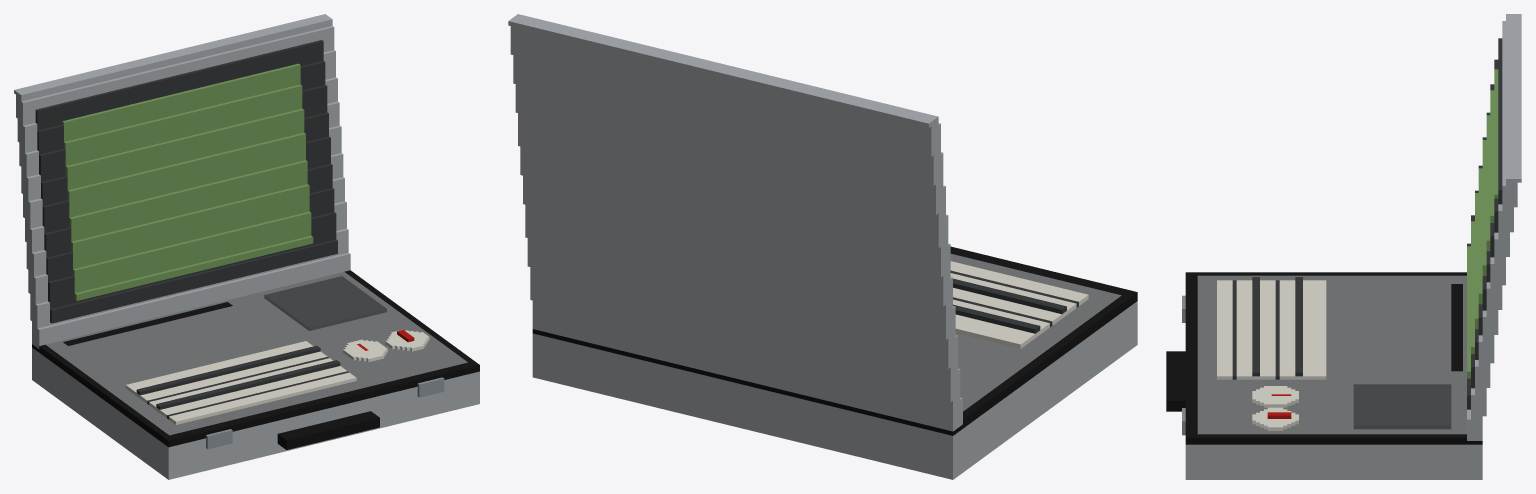
Rendered from weather_reader.glb.
3 views of the same model, side by side, from view 1: azimuth 30°, elevation 25°; view 2: azimuth 150°, elevation 25°; view 3: azimuth 270°, elevation 25° (orthographic). The views are drawn at different scales.
Visible parts, largest first — view 1: weather_reader:compound; view 2: weather_reader:compound; view 3: weather_reader:compound.
Part boxes in pixels (bbox=[...]): weather_reader:compound: bbox=[14, 14, 479, 479]; weather_reader:compound: bbox=[508, 14, 1137, 479]; weather_reader:compound: bbox=[1166, 14, 1521, 479].
Size of the model in its own units: 0.4 by 0.34 by 0.364.
